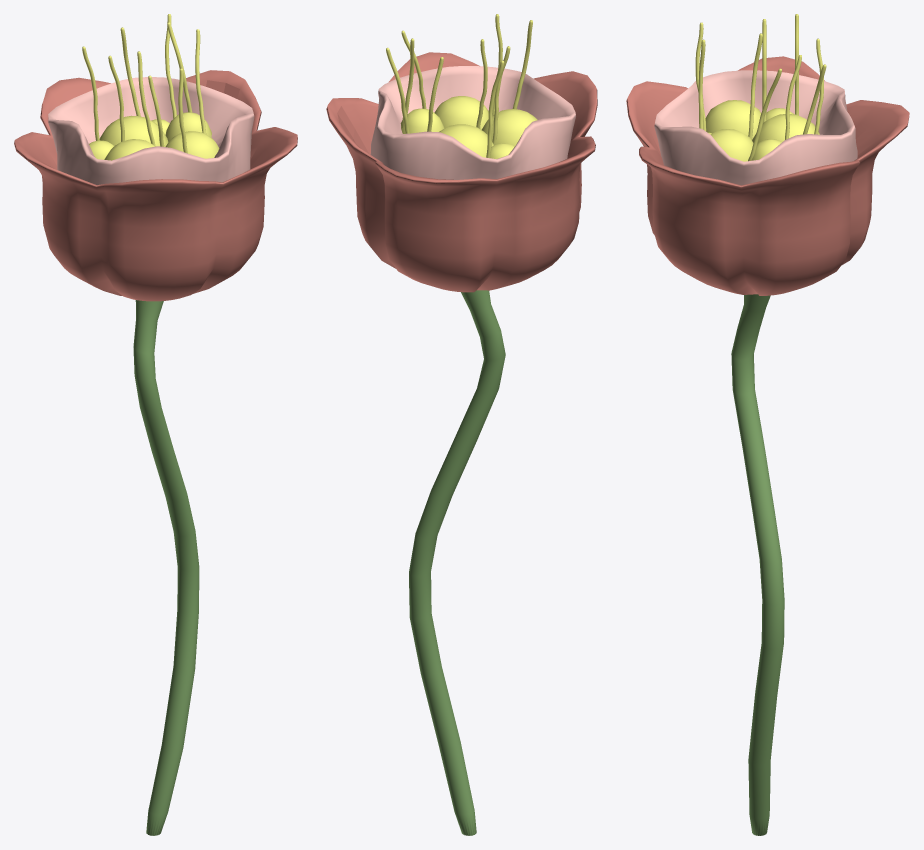
File: fbxFUV.fbx
The picture shows the model from 3 angles, left to right: view 1: azimuth 30°, elevation 25°; view 2: azimuth 150°, elevation 25°; view 3: azimuth 270°, elevation 25°; orthographic projection.
Parts seen in each view (by area): view 1: pCylinder11, polySurface2, polySurface1, mush, mush2, mush1, mush6; view 2: pCylinder11, polySurface2, polySurface1, mush2, mush6, mush, mush1; view 3: pCylinder11, polySurface2, polySurface1, mush6, mush, mush2.
Boxes of the visible parts, x1=… form: pCylinder11: x1=14, y1=70, x2=297, y2=301; polySurface2: x1=48, y1=77, x2=254, y2=184; polySurface1: x1=133, y1=300, x2=199, y2=835; mush: x1=99, y1=115, x2=168, y2=146; mush2: x1=165, y1=131, x2=219, y2=158; mush1: x1=165, y1=112, x2=211, y2=141; mush6: x1=104, y1=139, x2=155, y2=160; pCylinder11: x1=326, y1=52, x2=597, y2=292; polySurface2: x1=370, y1=66, x2=575, y2=179; polySurface1: x1=409, y1=290, x2=505, y2=835; mush2: x1=434, y1=96, x2=488, y2=129; mush6: x1=481, y1=109, x2=537, y2=145; mush: x1=439, y1=124, x2=493, y2=157; mush1: x1=400, y1=108, x2=444, y2=133; pCylinder11: x1=626, y1=56, x2=909, y2=295; polySurface2: x1=654, y1=70, x2=857, y2=185; polySurface1: x1=731, y1=294, x2=784, y2=835; mush6: x1=705, y1=100, x2=761, y2=139; mush: x1=752, y1=114, x2=819, y2=143; mush2: x1=710, y1=129, x2=753, y2=161.
Size of the model in its own units: 11.6 by 36.48 by 11.76.
